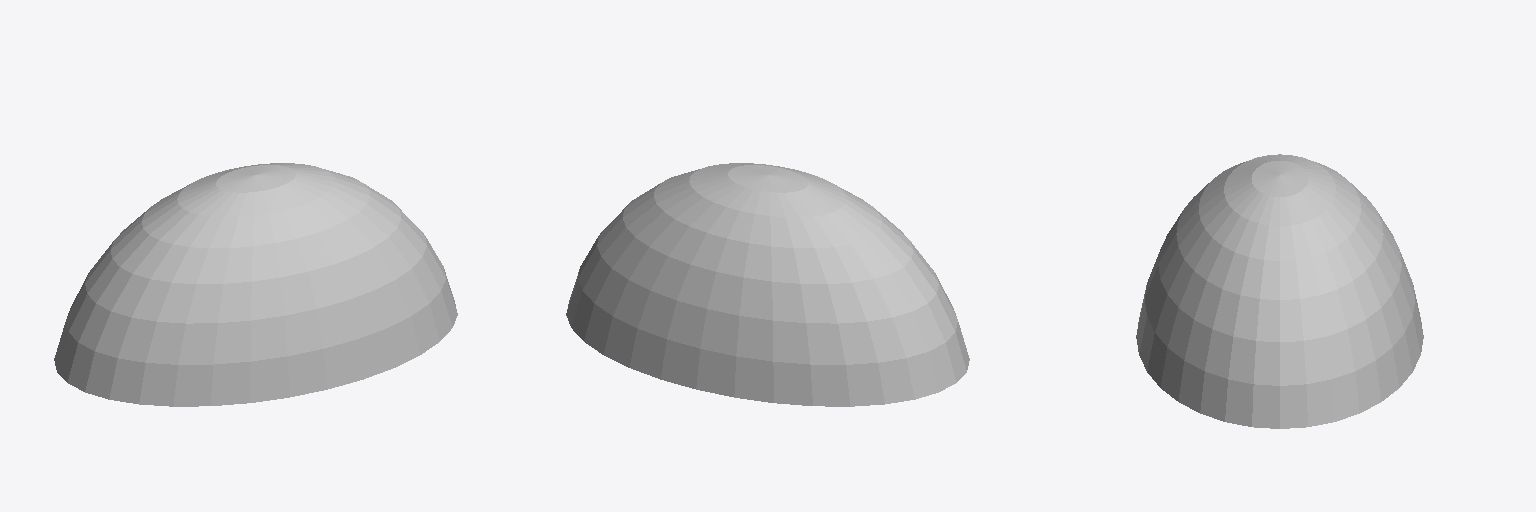
File: topo_abajur.obj
The picture shows the model from 3 angles: view 1: azimuth 30°, elevation 25°; view 2: azimuth 150°, elevation 25°; view 3: azimuth 270°, elevation 25°; orthographic projection.
Parts seen in each view (by area): view 1: topo_do_abajur_Sphere; view 2: topo_do_abajur_Sphere; view 3: topo_do_abajur_Sphere.
Boxes of the visible parts, box(x1,y1,x2,y2) form: topo_do_abajur_Sphere: box(54, 163, 457, 406); topo_do_abajur_Sphere: box(566, 163, 969, 406); topo_do_abajur_Sphere: box(1136, 154, 1423, 428).
Size of the model in its own units: 1.96 by 0.8049 by 1.29.